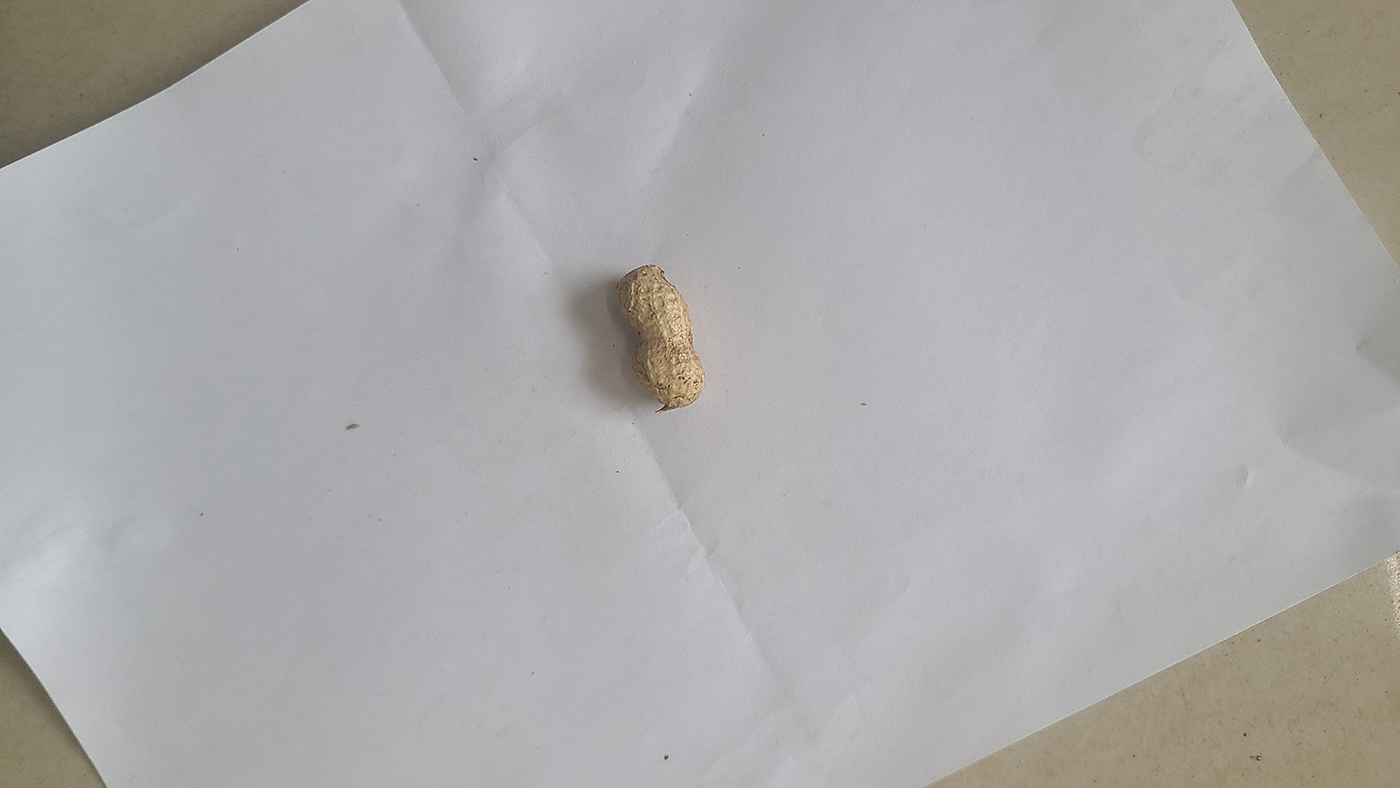h: (616, 264, 706, 408)
